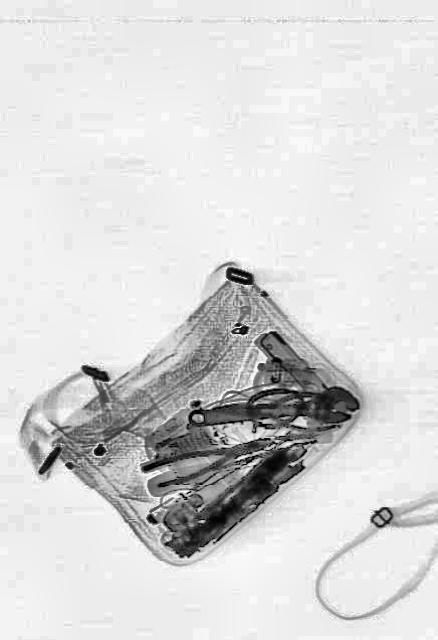Pliers: (141, 426, 273, 494)
Wrench: (187, 382, 359, 436)
